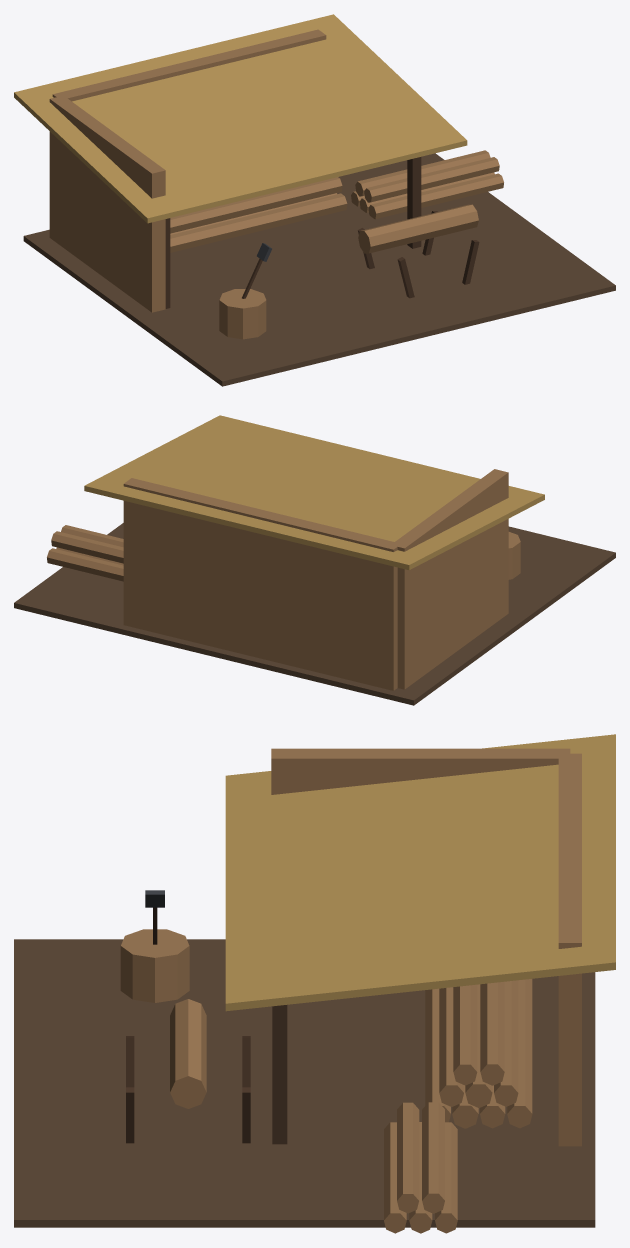
File: logging_camp.glb
3 views of the same model, one above another, from view 1: azimuth 30°, elevation 25°; view 2: azimuth 150°, elevation 25°; view 3: azimuth 270°, elevation 25° (orthographic). The views are drawn at different scales.
Visible parts, largest first — view 1: logging_camp_lod0; view 2: logging_camp_lod0; view 3: logging_camp_lod0.
Boxes of the visible parts, bbox=[...] form: logging_camp_lod0: bbox=[14, 14, 615, 386]; logging_camp_lod0: bbox=[14, 415, 615, 705]; logging_camp_lod0: bbox=[14, 734, 615, 1233].
Size of what is drawn, in the model's own units: 8.35 by 2.8 by 7.25.
